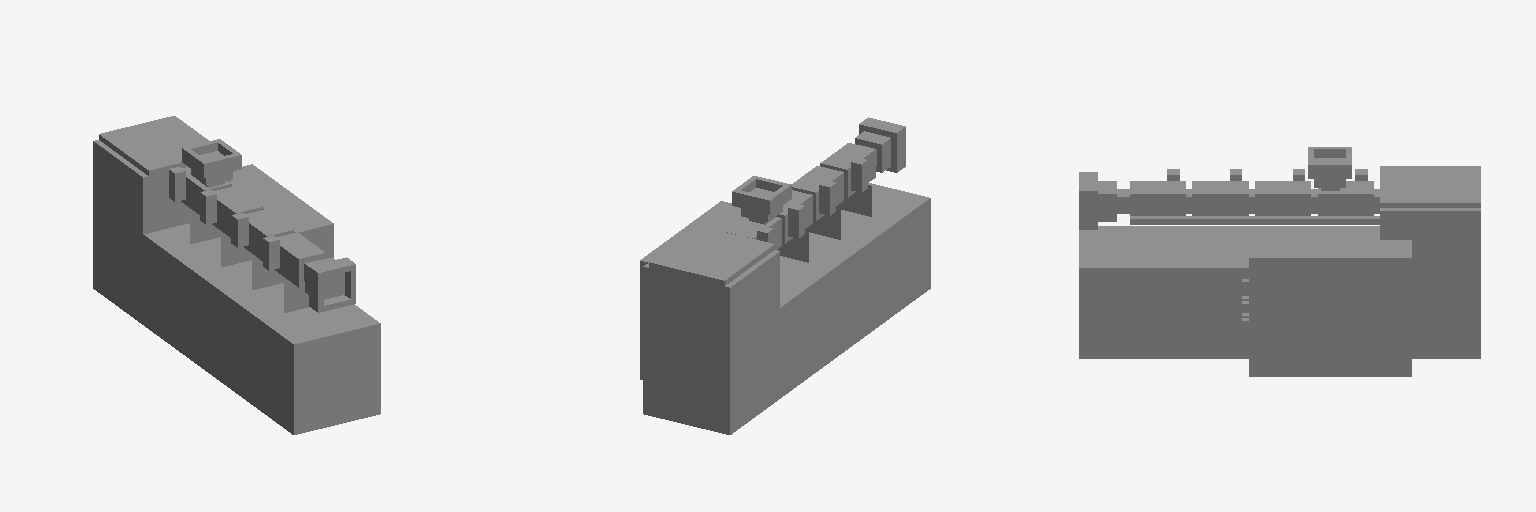
The model's file is extruder.obj.
The picture shows the model from 3 angles: view 1: azimuth 30°, elevation 25°; view 2: azimuth 150°, elevation 25°; view 3: azimuth 270°, elevation 25°; orthographic projection.
Bounding box in the file's own units: 1.44 × 2 × 4.